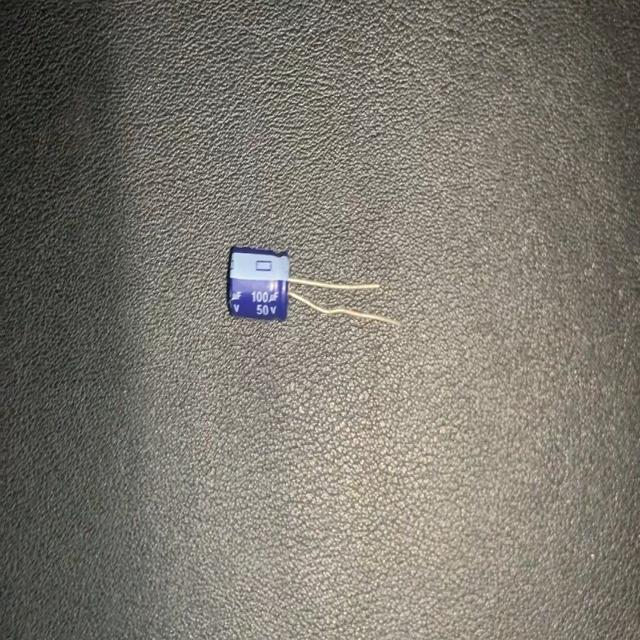capacitor: (225, 242, 401, 335)
